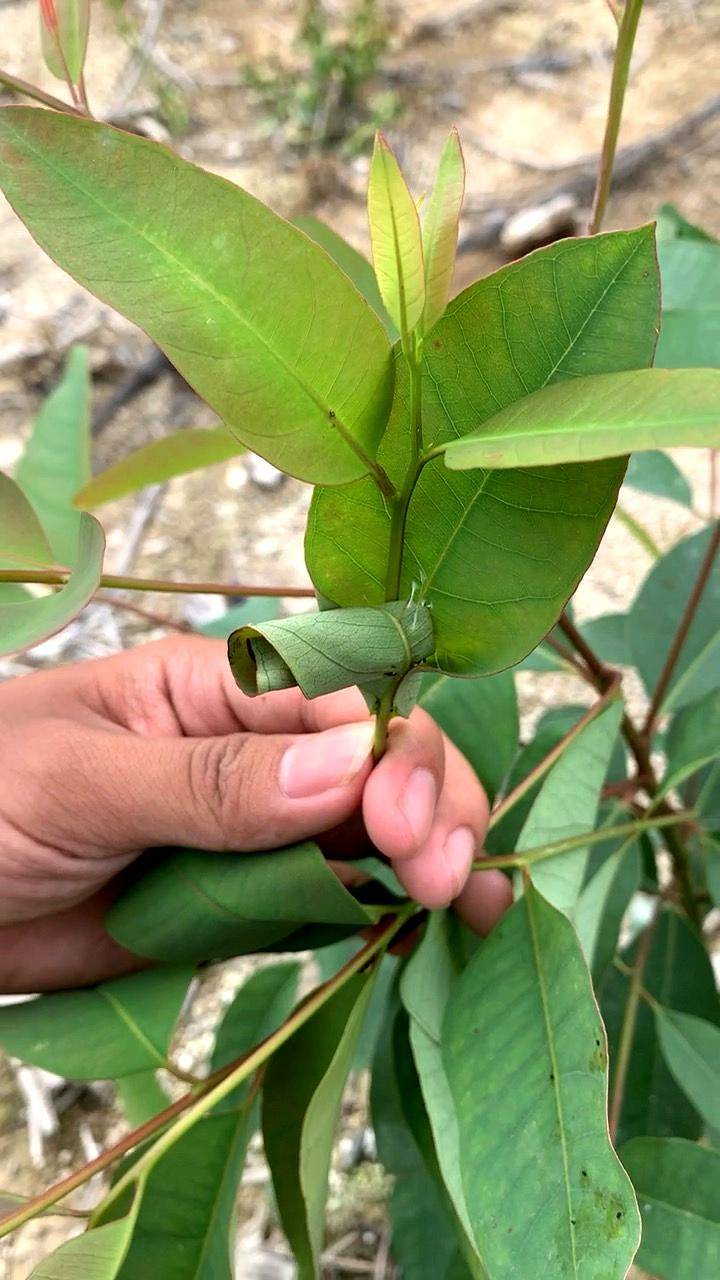Leaf Roller - Leaf: (167, 560, 478, 720)
